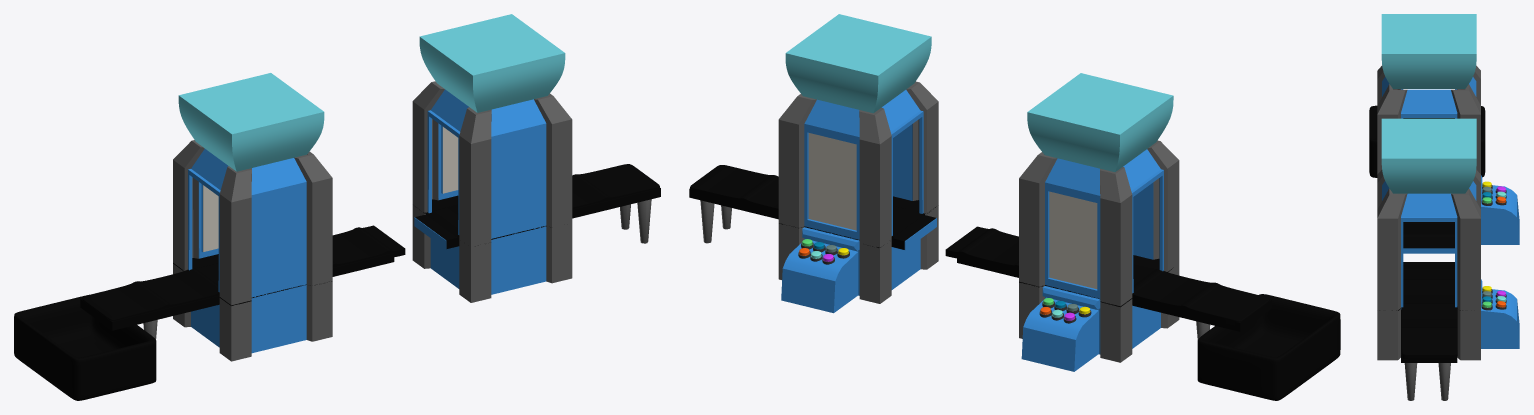
Rendered from machine (1).fbx.
The picture shows the model from 3 angles, left to right: view 1: azimuth 30°, elevation 25°; view 2: azimuth 150°, elevation 25°; view 3: azimuth 270°, elevation 25°; orthographic projection. The views are drawn at different scales.
Visible parts, largest first — view 1: Cube.023, Cube.025, Cube.033, Cube.035, Cube.005, Cube.021, Cube.026, Plane.013, Plane, Cube.031, Cube, Cube.024 (+2 smaller); view 2: Cube.023, Cube.025, Cube.005, Cube.021, Cube.026, Cube.033, Plane.013, Cube.035, Cube.020, Cube.032, Cube.034, Cube.022 (+4 smaller); view 3: Cube.023, Cube.021, Cube.026, Plane, Cube.025, Cube.033, Cube, Cube.022, Cube.034, Plane.013, Cube.005, Cube.024 (+3 smaller).
Boxes of the visible parts, x1=… form: Cube.023: x1=412, y1=81, x2=572, y2=302; Cube.025: x1=173, y1=140, x2=332, y2=361; Cube.033: x1=188, y1=149, x2=306, y2=353; Cube.035: x1=430, y1=99, x2=546, y2=294; Cube.005: x1=14, y1=294, x2=156, y2=400; Cube.021: x1=419, y1=14, x2=565, y2=112; Cube.026: x1=178, y1=73, x2=324, y2=171; Plane.013: x1=82, y1=225, x2=405, y2=320; Plane: x1=426, y1=164, x2=659, y2=237; Cube.031: x1=80, y1=253, x2=394, y2=330; Cube: x1=414, y1=89, x2=468, y2=248; Cube.024: x1=415, y1=187, x2=660, y2=249; Cube.023: x1=778, y1=81, x2=938, y2=303; Cube.025: x1=1019, y1=140, x2=1179, y2=362; Cube.005: x1=1197, y1=294, x2=1340, y2=400; Cube.021: x1=785, y1=14, x2=931, y2=113; Cube.026: x1=1027, y1=73, x2=1173, y2=171; Cube.033: x1=1042, y1=149, x2=1163, y2=354; Plane.013: x1=945, y1=226, x2=1269, y2=325; Cube.035: x1=802, y1=99, x2=920, y2=295; Cube.020: x1=1049, y1=191, x2=1097, y2=288; Cube.032: x1=808, y1=133, x2=856, y2=230; Cube.034: x1=781, y1=239, x2=858, y2=313; Cube.022: x1=1021, y1=297, x2=1098, y2=371; Cube.023: x1=1377, y1=170, x2=1480, y2=360; Cube.021: x1=1381, y1=118, x2=1476, y2=193; Cube.026: x1=1381, y1=14, x2=1476, y2=88; Plane: x1=1401, y1=265, x2=1457, y2=359; Cube.025: x1=1377, y1=65, x2=1480, y2=174; Cube.033: x1=1382, y1=77, x2=1482, y2=253; Cube: x1=1401, y1=193, x2=1457, y2=309; Cube.022: x1=1481, y1=185, x2=1519, y2=244; Cube.034: x1=1481, y1=289, x2=1519, y2=348; Plane.013: x1=1403, y1=118, x2=1454, y2=248; Cube.005: x1=1369, y1=105, x2=1485, y2=177; Cube.024: x1=1379, y1=262, x2=1462, y2=362.
Bounding box in the file's own units: 1454 × 517 × 353.
